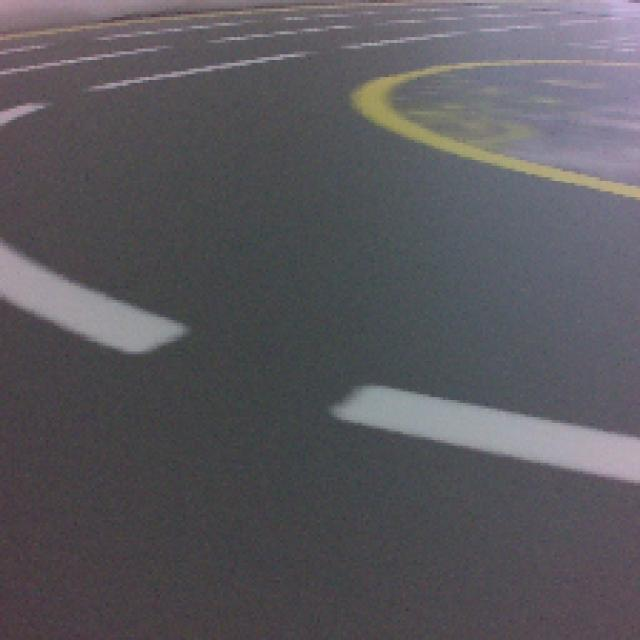Pedestrian crosswalk: (336, 386, 640, 486)
